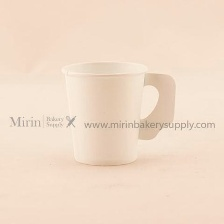paper_cup: (54, 56, 180, 171)
